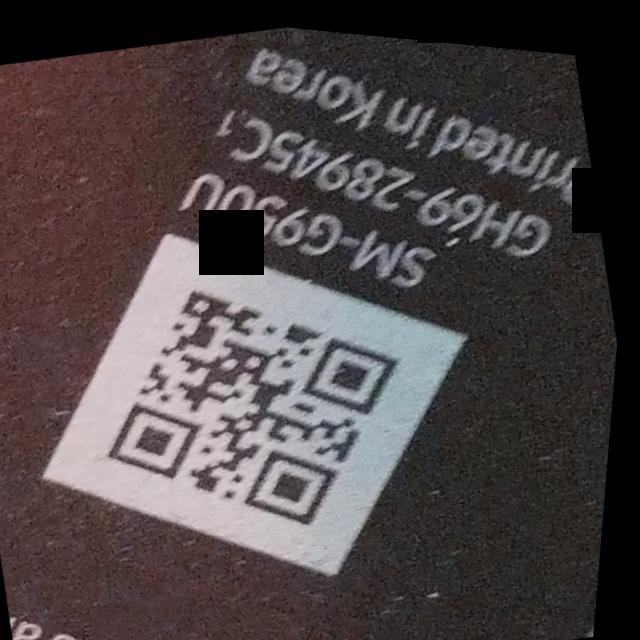QR_CODE: (55, 216, 457, 589)
